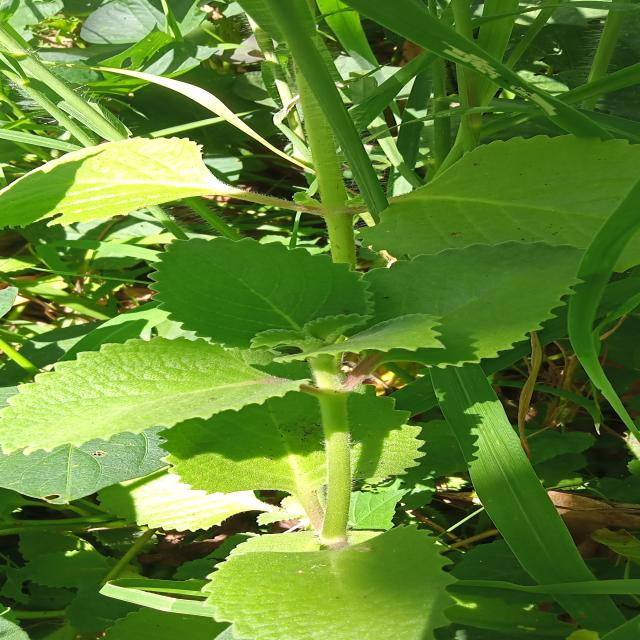Oregano: (107, 226, 479, 380), (298, 218, 606, 371), (186, 527, 459, 640)
